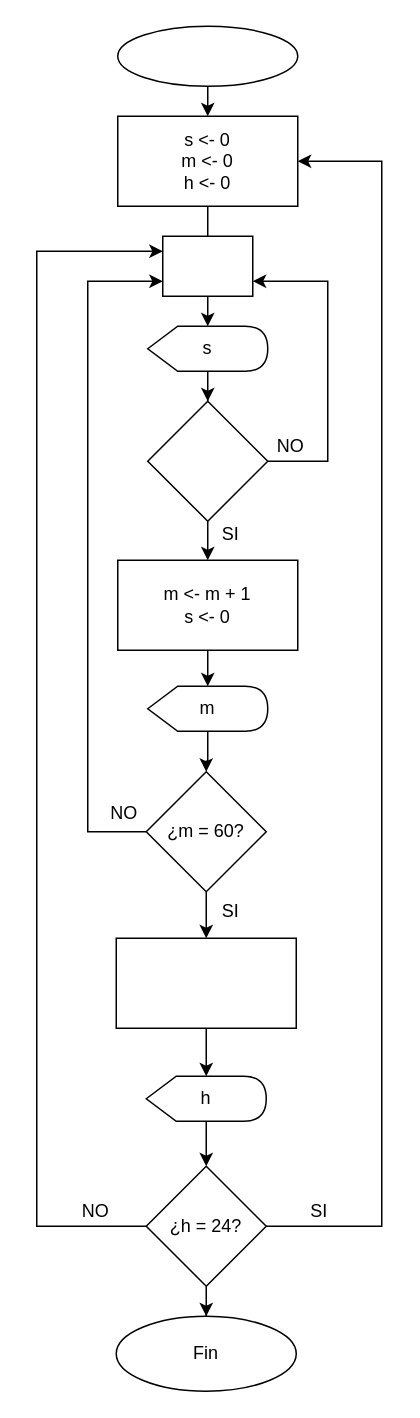
This 420x1418 diagram has some shape labels left out. Each missing label, with the centre of its shape:
h <- h + 1 m <- 0 s <- 0: (x=205, y=982)
Inicio: (x=207, y=55)
s <- s + 1: (x=207, y=265)
¿s = 60?: (x=207, y=460)
